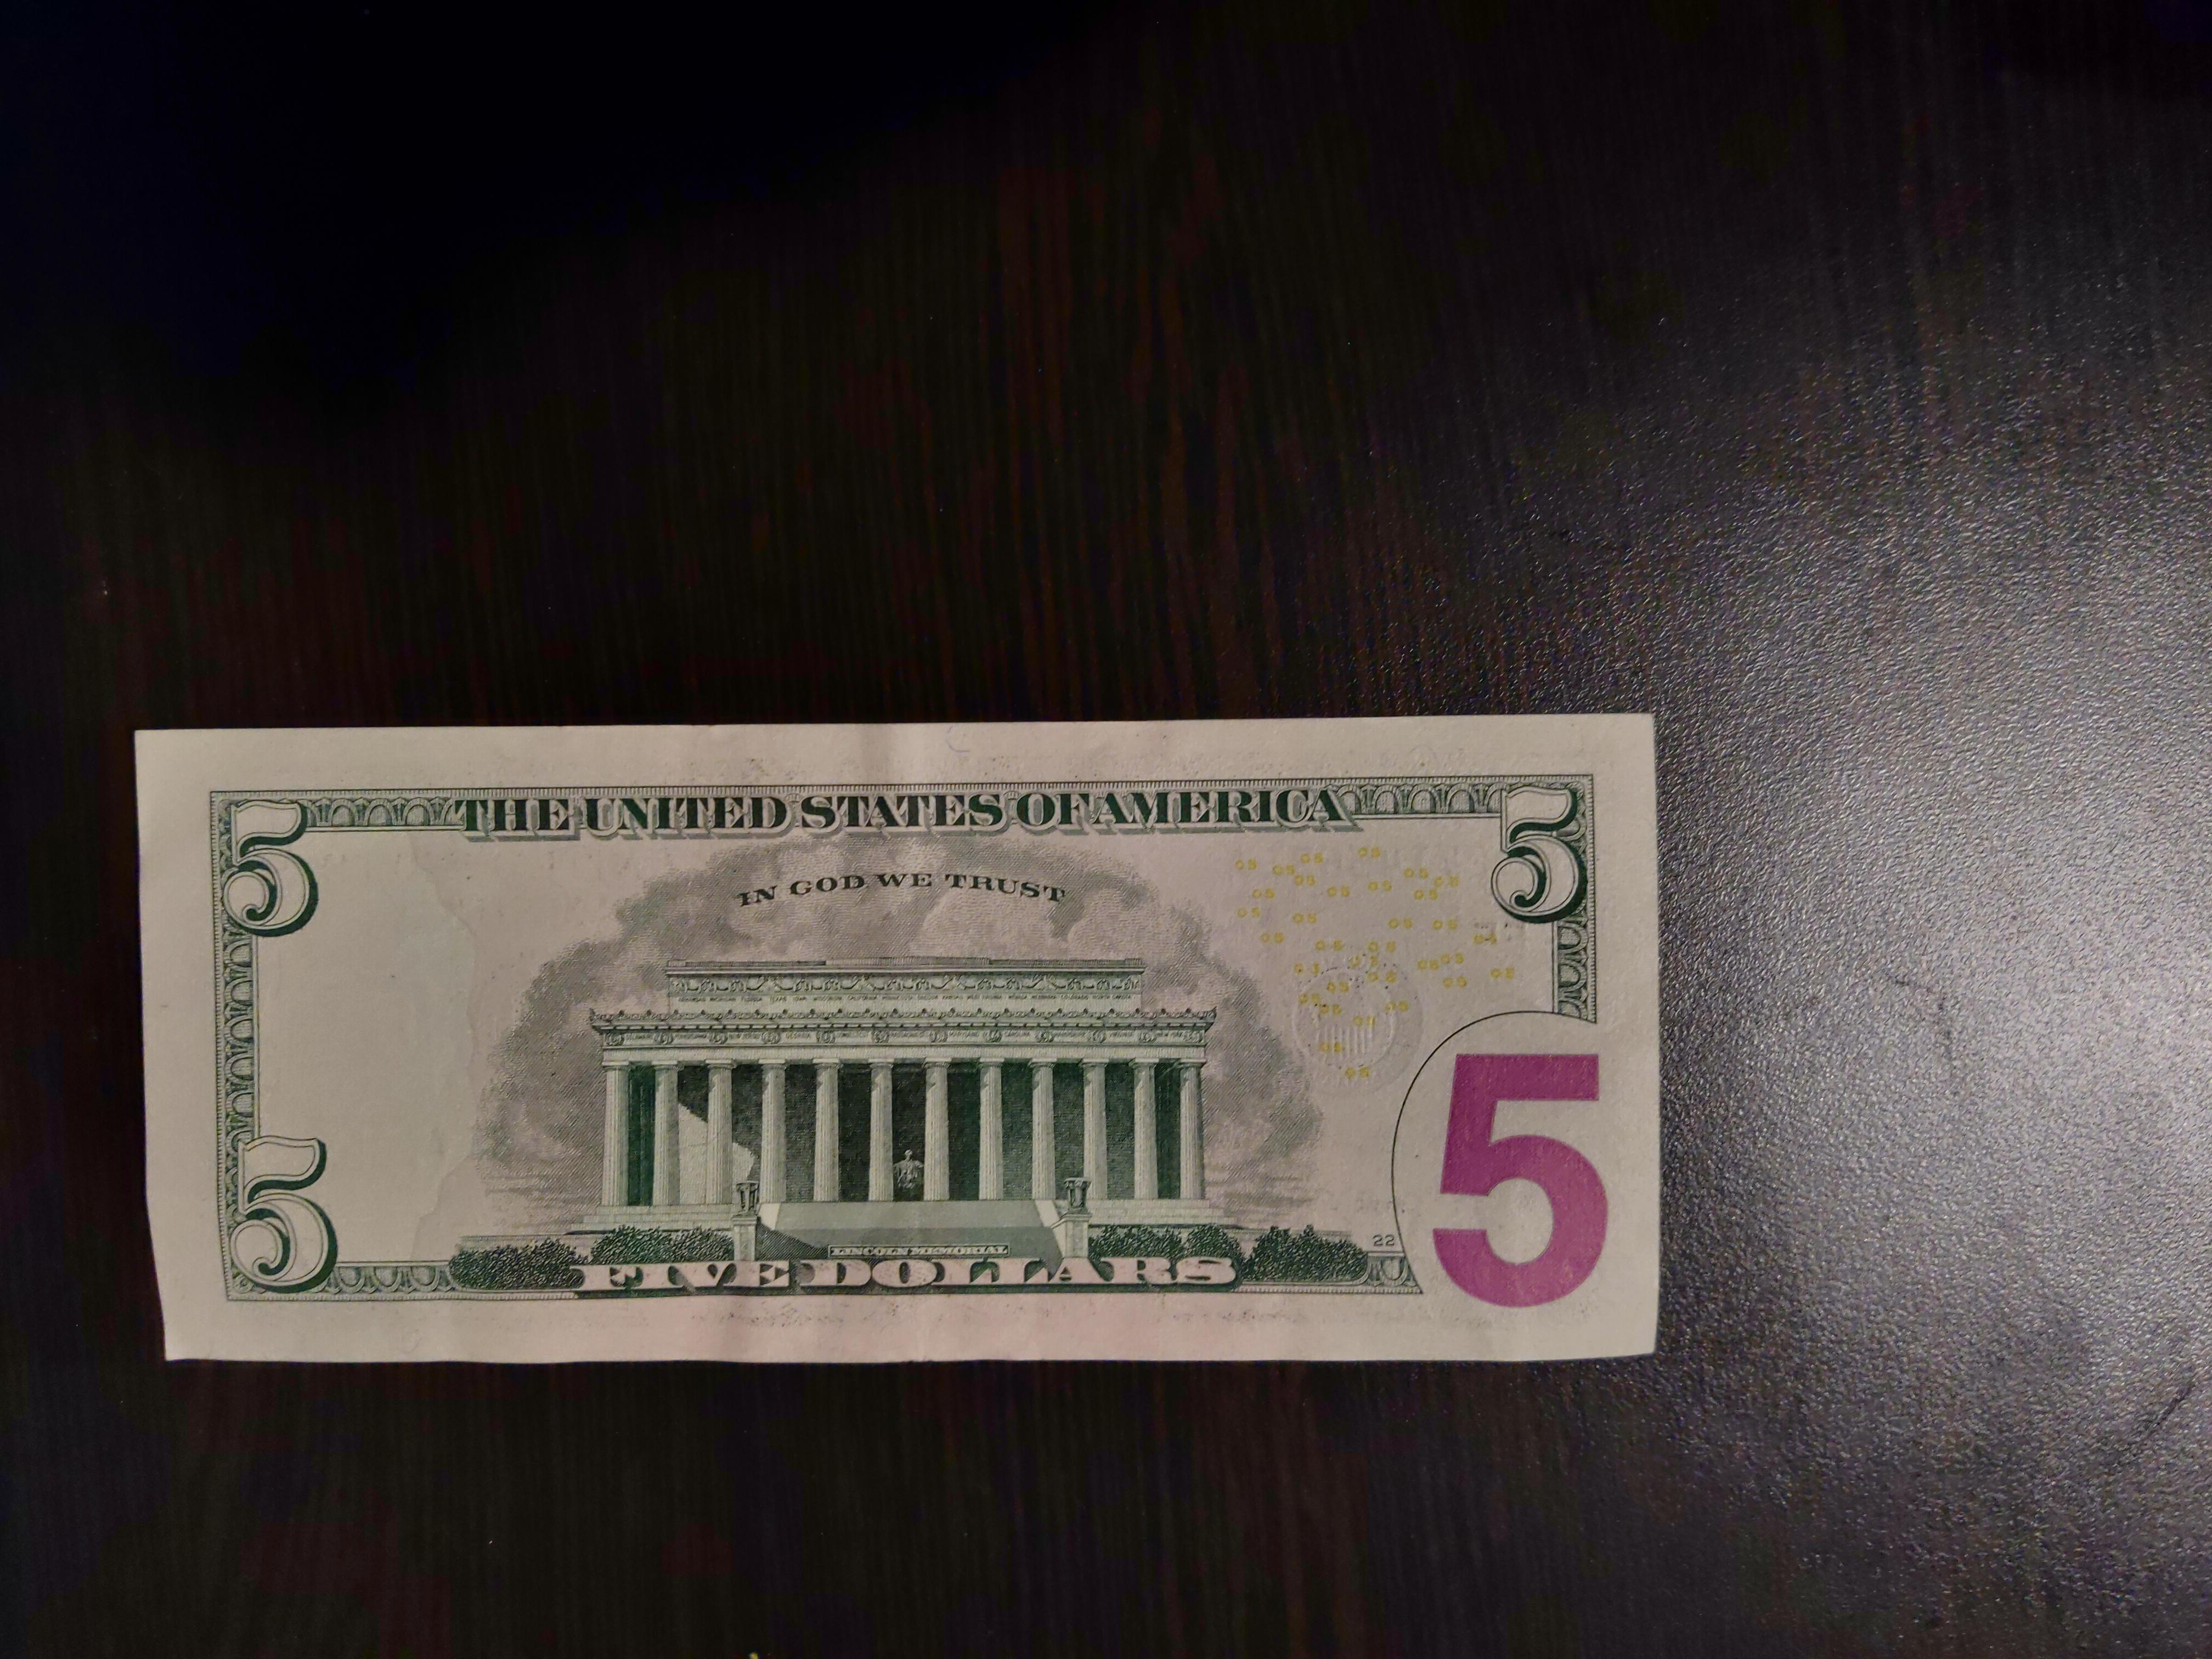FiveBill: (129, 702, 1665, 1378)
